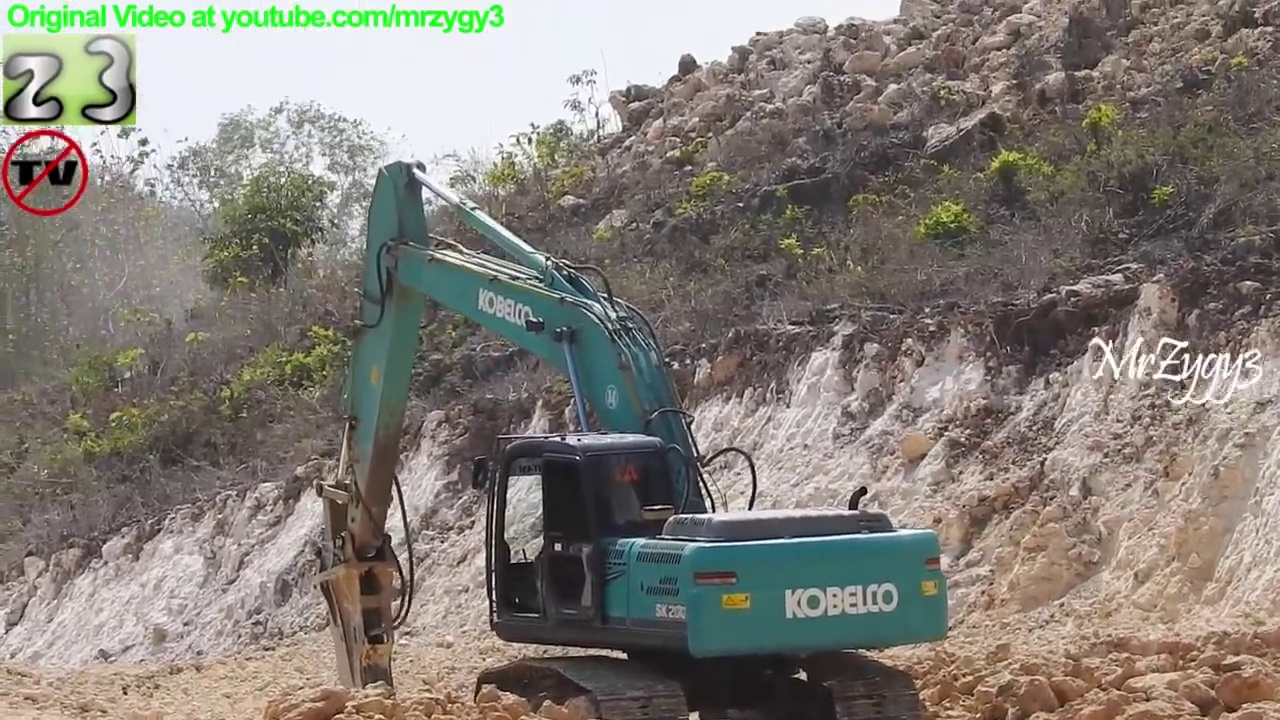excavator: (305, 154, 960, 720)
